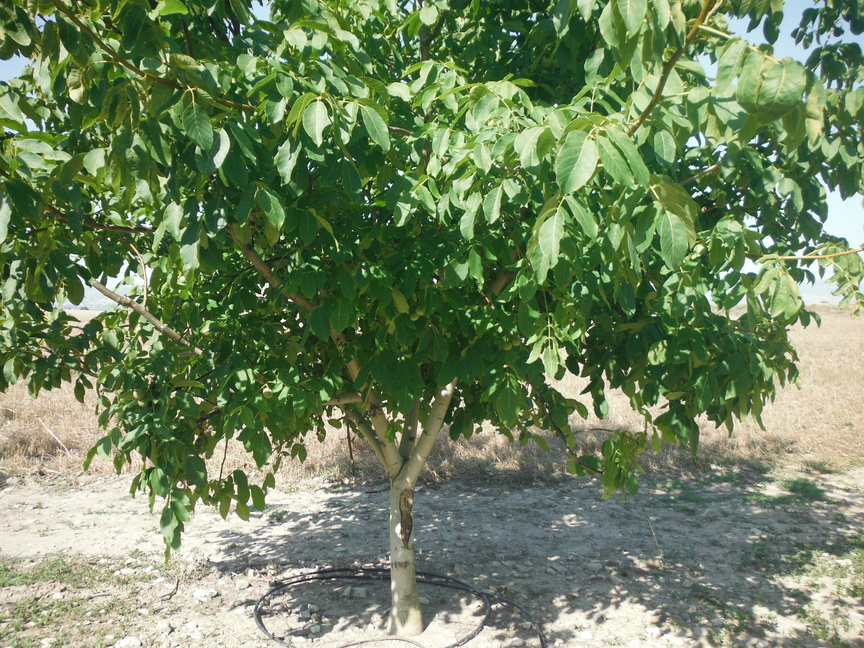walnut: (260, 384, 276, 400), (130, 386, 147, 401), (510, 334, 524, 350), (415, 303, 429, 318), (539, 56, 554, 70), (137, 395, 151, 409), (407, 309, 421, 323), (411, 222, 423, 238), (551, 56, 562, 71), (502, 339, 513, 353), (178, 273, 190, 285)
